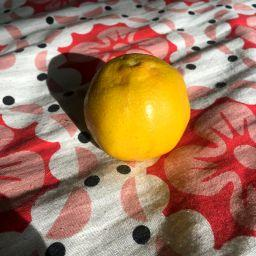orange: (82, 53, 192, 163)
